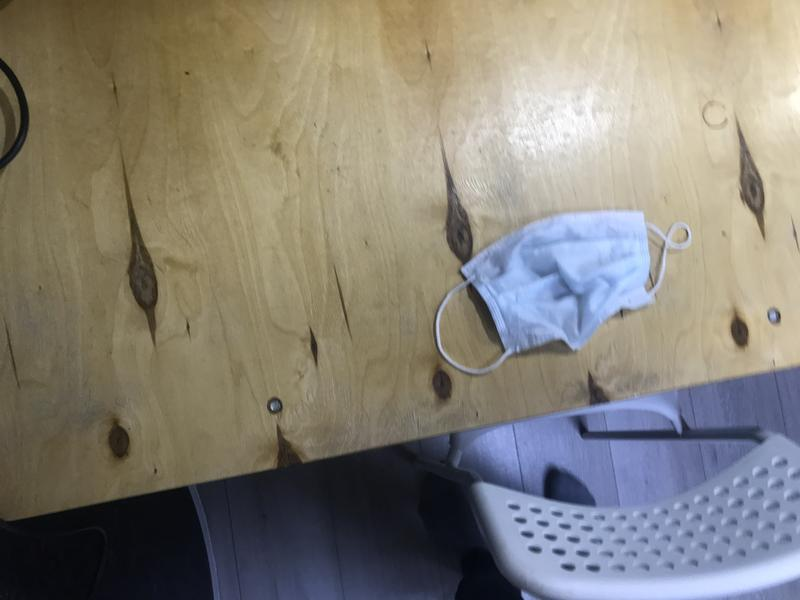medical_mask: (435, 211, 692, 376)
